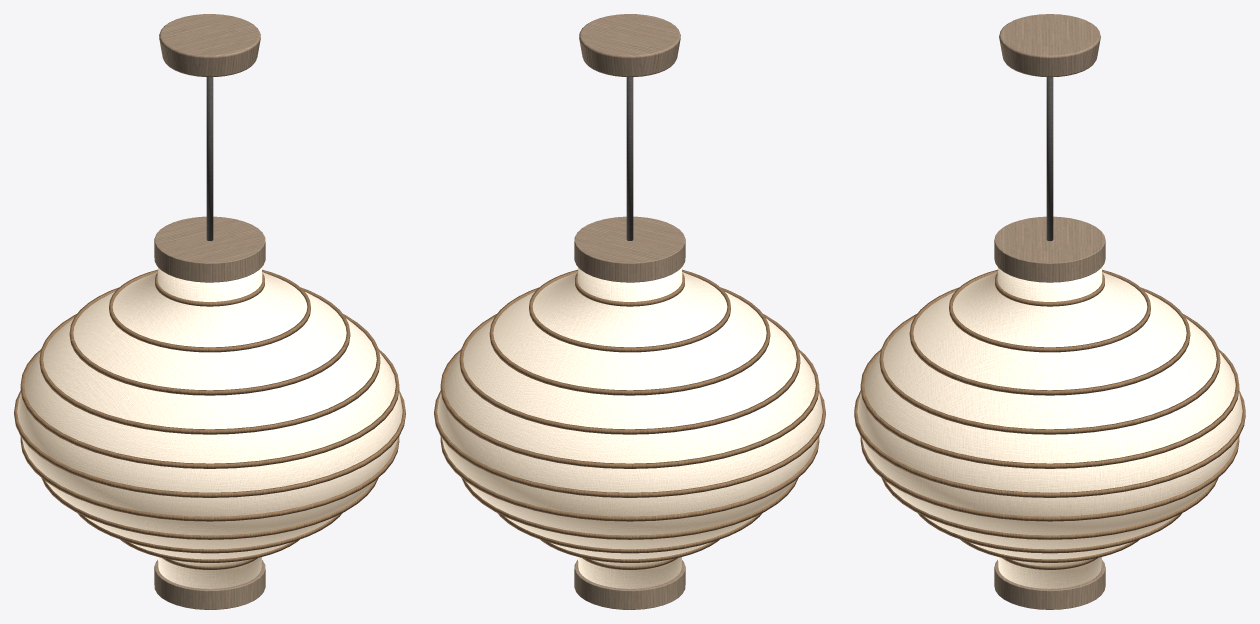
The picture shows the model from 3 angles, left to right: view 1: azimuth 30°, elevation 25°; view 2: azimuth 150°, elevation 25°; view 3: azimuth 270°, elevation 25°; orthographic projection.
Visible parts, largest first — view 1: Washi globe, Top ring, Ceiling canopy, Bamboo rib 7, Bamboo rib 8, Bamboo rib 6, Bottom ring, Bamboo rib 9, Bamboo rib 5, Bamboo rib 10, Bamboo rib 4, Cord (+3 smaller); view 2: Washi globe, Top ring, Ceiling canopy, Bamboo rib 7, Bamboo rib 8, Bamboo rib 6, Bottom ring, Bamboo rib 9, Bamboo rib 5, Bamboo rib 10, Bamboo rib 4, Cord (+3 smaller); view 3: Washi globe, Top ring, Ceiling canopy, Bamboo rib 7, Bamboo rib 8, Bamboo rib 6, Bottom ring, Bamboo rib 9, Bamboo rib 5, Bamboo rib 10, Bamboo rib 4, Cord (+3 smaller).
Part boxes in pixels (bbox=[...]): Washi globe: bbox=[17, 267, 402, 588]; Top ring: bbox=[154, 216, 265, 282]; Ceiling canopy: bbox=[159, 14, 260, 77]; Bamboo rib 7: bbox=[20, 349, 399, 468]; Bamboo rib 8: bbox=[39, 314, 380, 434]; Bamboo rib 6: bbox=[14, 390, 405, 497]; Bottom ring: bbox=[154, 560, 265, 609]; Bamboo rib 9: bbox=[69, 287, 350, 395]; Bamboo rib 5: bbox=[20, 437, 399, 521]; Bamboo rib 10: bbox=[109, 269, 310, 352]; Bamboo rib 4: bbox=[41, 477, 378, 539]; Cord: bbox=[206, 77, 213, 240]; Washi globe: bbox=[437, 267, 822, 588]; Top ring: bbox=[574, 216, 685, 282]; Ceiling canopy: bbox=[579, 14, 680, 77]; Bamboo rib 7: bbox=[440, 349, 819, 468]; Bamboo rib 8: bbox=[459, 314, 800, 434]; Bamboo rib 6: bbox=[434, 390, 825, 497]; Bottom ring: bbox=[574, 560, 685, 609]; Bamboo rib 9: bbox=[489, 287, 770, 395]; Bamboo rib 5: bbox=[440, 437, 819, 521]; Bamboo rib 10: bbox=[529, 269, 730, 352]; Bamboo rib 4: bbox=[461, 477, 798, 539]; Cord: bbox=[626, 77, 633, 240]; Washi globe: bbox=[857, 267, 1242, 588]; Top ring: bbox=[994, 216, 1105, 282]; Ceiling canopy: bbox=[999, 14, 1100, 77]; Bamboo rib 7: bbox=[860, 349, 1239, 468]; Bamboo rib 8: bbox=[879, 314, 1220, 434]; Bamboo rib 6: bbox=[854, 390, 1245, 497]; Bottom ring: bbox=[994, 560, 1105, 609]; Bamboo rib 9: bbox=[909, 287, 1190, 395]; Bamboo rib 5: bbox=[860, 437, 1239, 521]; Bamboo rib 10: bbox=[949, 269, 1150, 352]; Bamboo rib 4: bbox=[881, 478, 1218, 539]; Cord: bbox=[1046, 77, 1053, 240].
Size of the model in its own units: 0.45 by 0.7 by 0.45.
4 materials, 4 textured.
